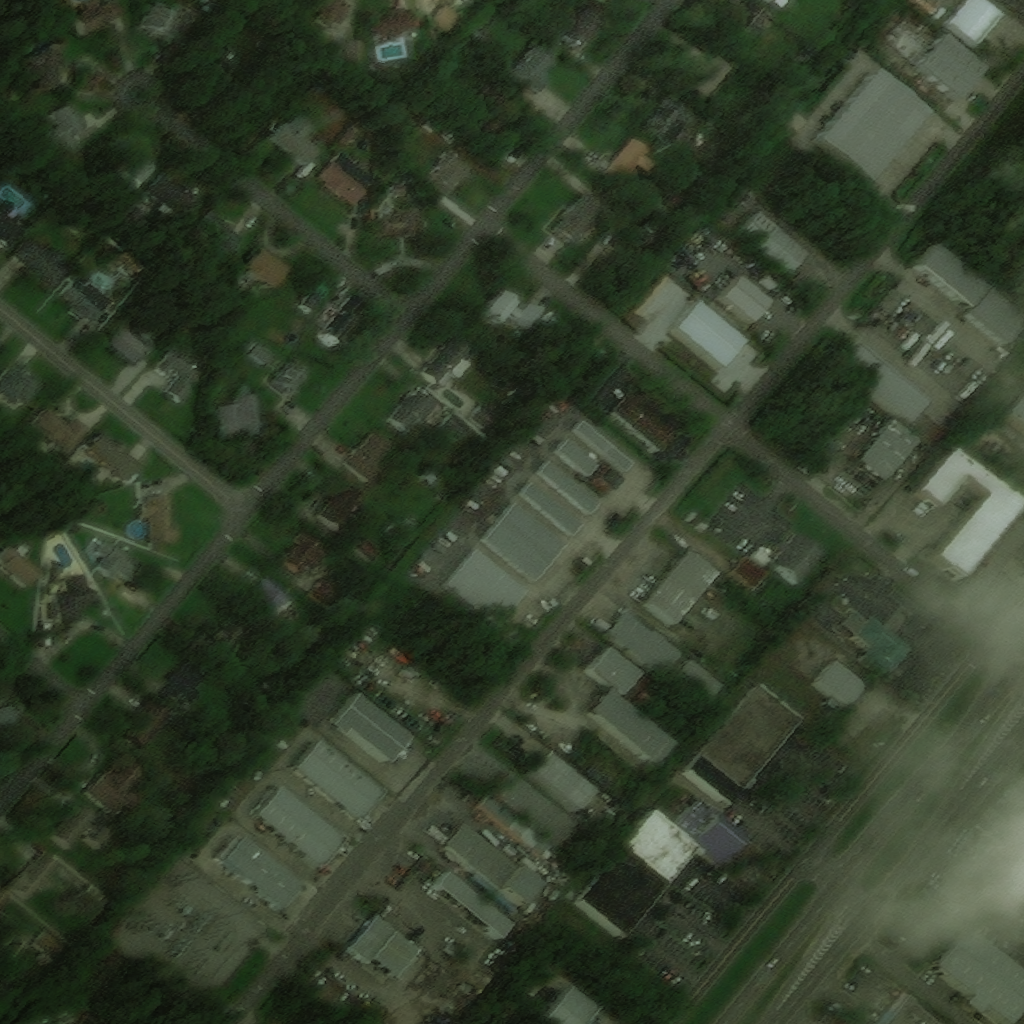no_damage: (917, 445, 1023, 578), (816, 66, 933, 182), (917, 238, 1023, 346), (701, 681, 804, 789), (576, 845, 671, 938), (838, 337, 931, 423), (257, 784, 346, 865), (295, 738, 385, 818), (589, 686, 676, 767), (483, 501, 570, 581), (219, 833, 306, 910), (448, 546, 530, 626), (644, 548, 720, 624), (624, 807, 700, 881), (334, 692, 414, 761), (436, 869, 515, 938), (673, 298, 749, 369), (609, 611, 682, 675), (349, 914, 419, 980), (676, 798, 745, 864), (921, 32, 989, 98), (445, 823, 516, 886), (743, 209, 811, 274), (481, 793, 552, 855), (615, 392, 681, 453), (859, 417, 921, 480), (531, 749, 597, 808), (88, 755, 147, 821), (854, 615, 911, 681), (523, 480, 587, 535), (541, 459, 603, 514), (493, 770, 551, 824), (471, 79, 525, 137), (577, 419, 637, 471), (685, 753, 744, 805), (148, 170, 201, 227), (555, 191, 611, 244), (14, 235, 70, 287), (32, 405, 91, 454), (53, 803, 114, 850), (318, 294, 369, 349), (505, 43, 558, 94), (346, 429, 396, 483), (588, 645, 643, 694), (947, 0, 1003, 48), (320, 151, 370, 204), (51, 101, 96, 159), (423, 335, 475, 385), (646, 92, 695, 145), (817, 658, 867, 709), (776, 532, 824, 585), (161, 347, 207, 402), (320, 482, 368, 534), (90, 433, 143, 480), (99, 540, 153, 586), (484, 289, 544, 330), (274, 115, 323, 165), (9, 852, 59, 900), (197, 618, 250, 663), (686, 52, 737, 98), (724, 274, 773, 321), (607, 138, 656, 184), (63, 277, 113, 322), (541, 985, 600, 1023), (725, 0, 778, 42), (558, 7, 606, 53), (125, 701, 172, 747), (282, 530, 331, 574), (875, 991, 941, 1023), (199, 210, 246, 254), (252, 575, 295, 623), (392, 388, 440, 431), (54, 574, 96, 623), (0, 358, 43, 404), (218, 393, 265, 434), (248, 246, 293, 288), (108, 320, 152, 362), (431, 149, 472, 194), (142, 0, 187, 41), (114, 147, 157, 189), (0, 544, 42, 587), (142, 494, 179, 542), (162, 664, 204, 706), (682, 656, 727, 695), (29, 40, 66, 87), (76, 0, 123, 36), (502, 865, 542, 903), (198, 54, 243, 87), (731, 553, 769, 592), (375, 7, 417, 42), (561, 439, 601, 475), (273, 360, 310, 396), (0, 198, 26, 249), (384, 206, 423, 237), (312, 574, 349, 606), (34, 927, 69, 960), (313, 0, 353, 27), (471, 402, 502, 432), (442, 412, 472, 441), (434, 3, 463, 32), (595, 465, 624, 492), (122, 205, 151, 231), (335, 40, 360, 70), (247, 340, 275, 364), (357, 537, 383, 561), (117, 248, 142, 272), (45, 559, 67, 586), (1007, 396, 1023, 429), (843, 611, 865, 634), (0, 702, 20, 727), (474, 14, 495, 35), (301, 292, 323, 311), (636, 223, 656, 242), (39, 600, 57, 621), (211, 720, 231, 738), (0, 886, 12, 914), (85, 499, 104, 516), (340, 128, 357, 145), (66, 516, 83, 532), (390, 185, 406, 195), (774, 0, 790, 7)
unclassified: (936, 922, 1023, 1023), (988, 853, 1023, 902)
